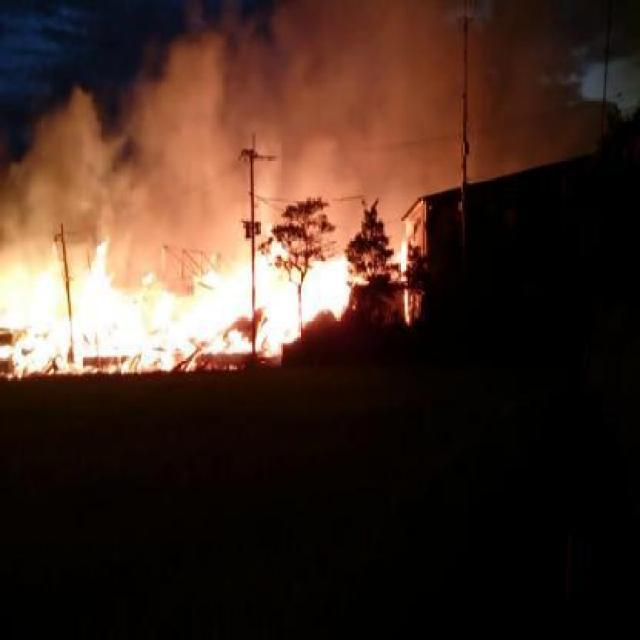Fire: (0, 231, 303, 375), (275, 258, 351, 322), (398, 235, 412, 320), (280, 322, 298, 344)
